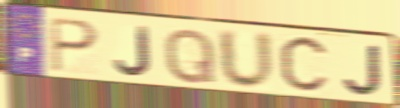C: (277, 33, 332, 97)
J: (341, 42, 384, 98), (112, 25, 154, 79)
P: (47, 16, 101, 74)
Q: (163, 26, 218, 86)
U: (216, 27, 278, 93)
